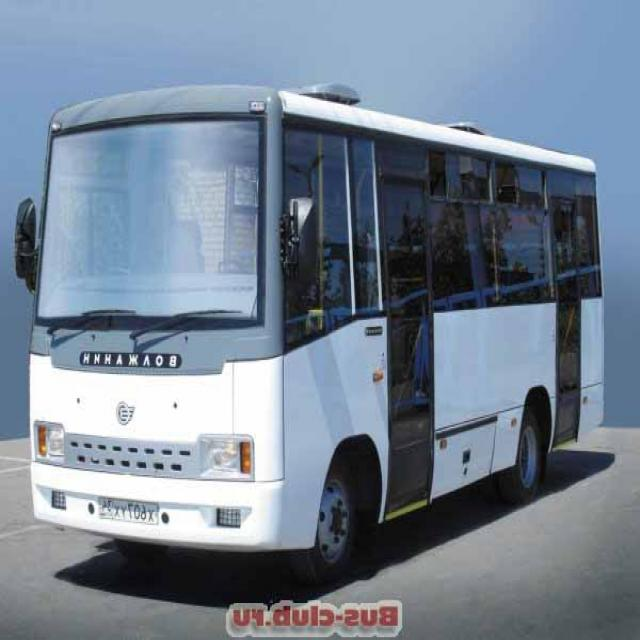bus: (10, 75, 611, 570)
